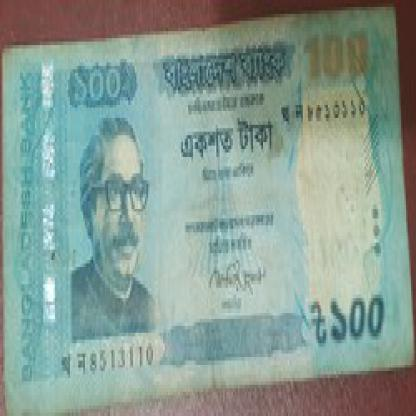one hundred taka: (303, 20, 373, 86), (328, 288, 388, 346), (66, 62, 126, 108)
